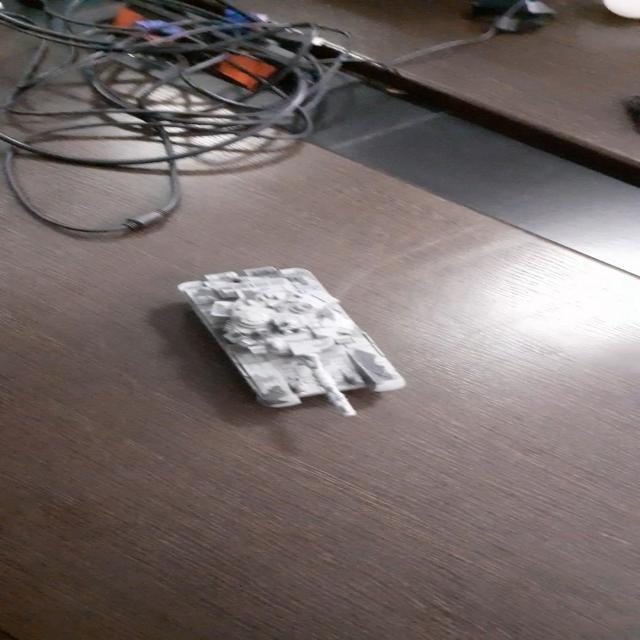tank: (179, 264, 408, 416)
